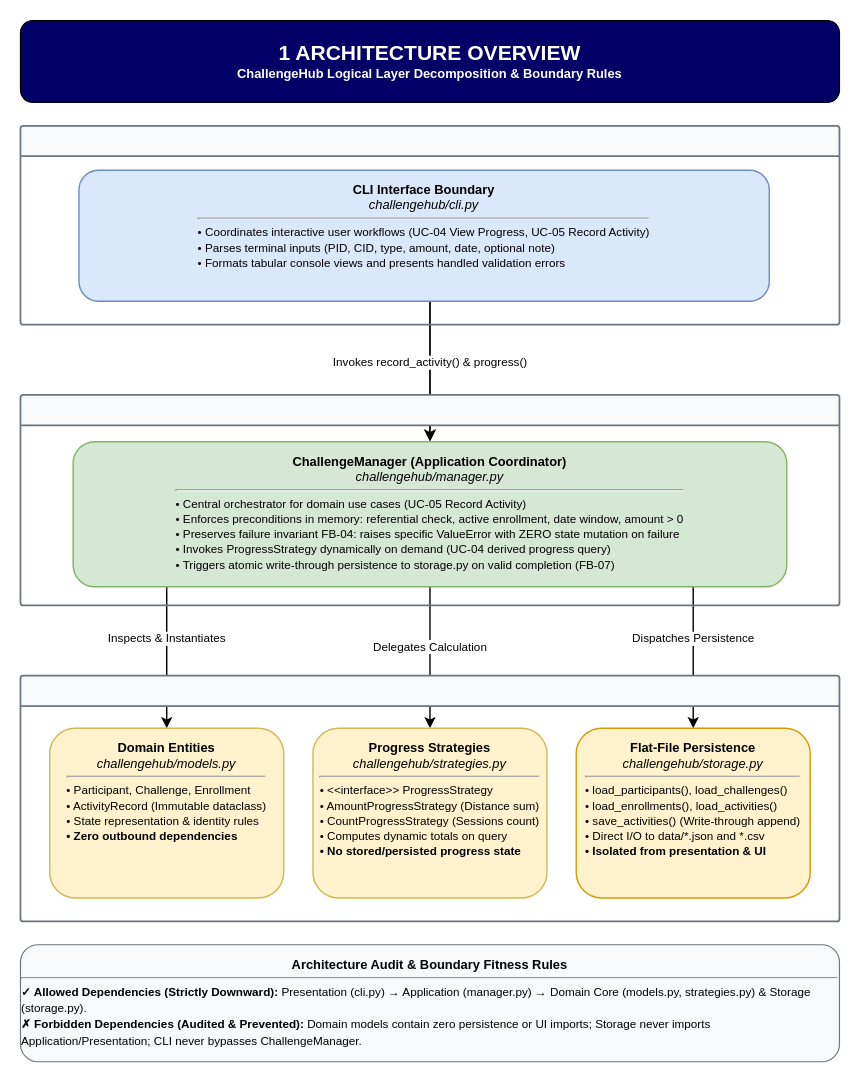
Image size: 861x1082. Some labels were removed from this diagram. The shapes that lost their labels are listed below. From the top down, each one's box as (x1, y1, x2, y2) in pixels, then its label:
(19, 124, 840, 325): Presentation Layer
(19, 393, 840, 606): Application Coordination Layer
(19, 674, 840, 922): Domain Core & Persistence Layer
